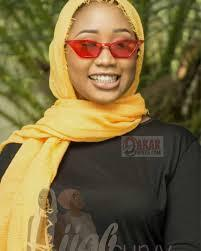No Mask: (50, 0, 161, 134)
